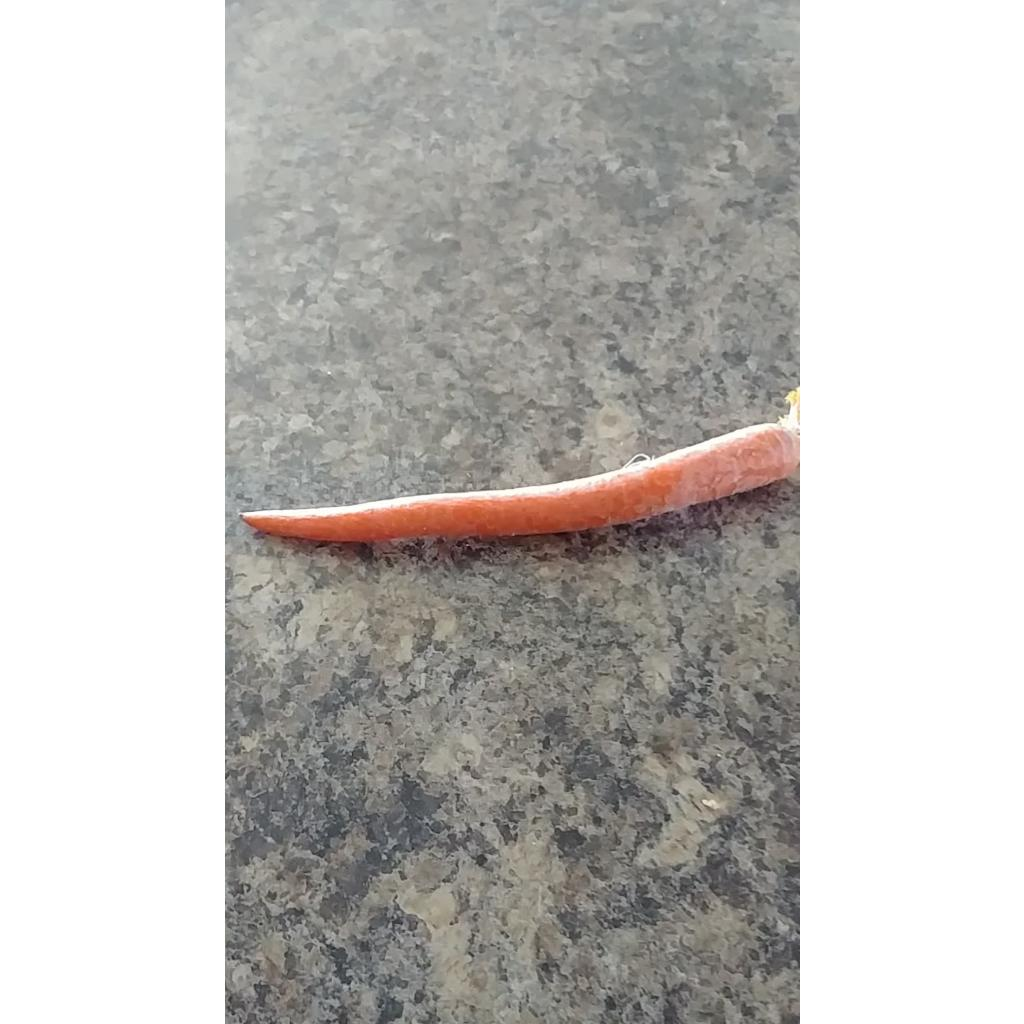carrot: (240, 424, 798, 542)
